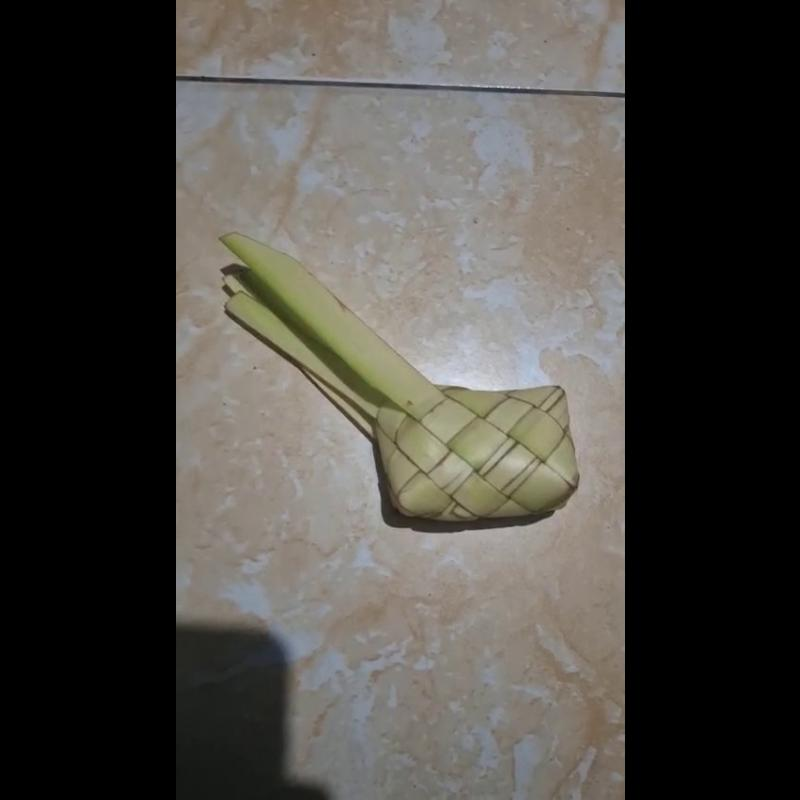Tipat Bantal: (221, 226, 586, 529)
